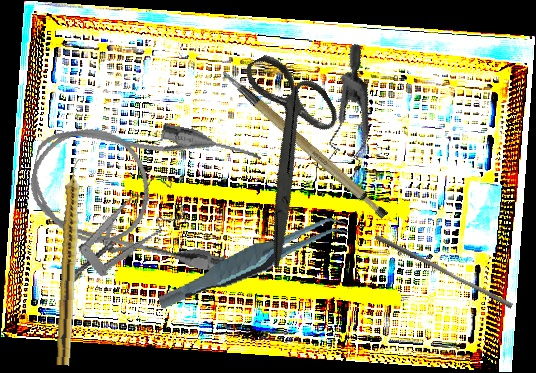Cannula: (20, 98, 264, 277)
Handpiece: (56, 158, 85, 366)
Iris Scissors: (182, 37, 389, 269)
Pusher: (371, 234, 516, 309)
Scalpel Handle: (221, 47, 391, 238)
Speculum: (275, 42, 410, 195), (39, 171, 197, 290)
Tissue Forceps: (150, 214, 356, 310)
